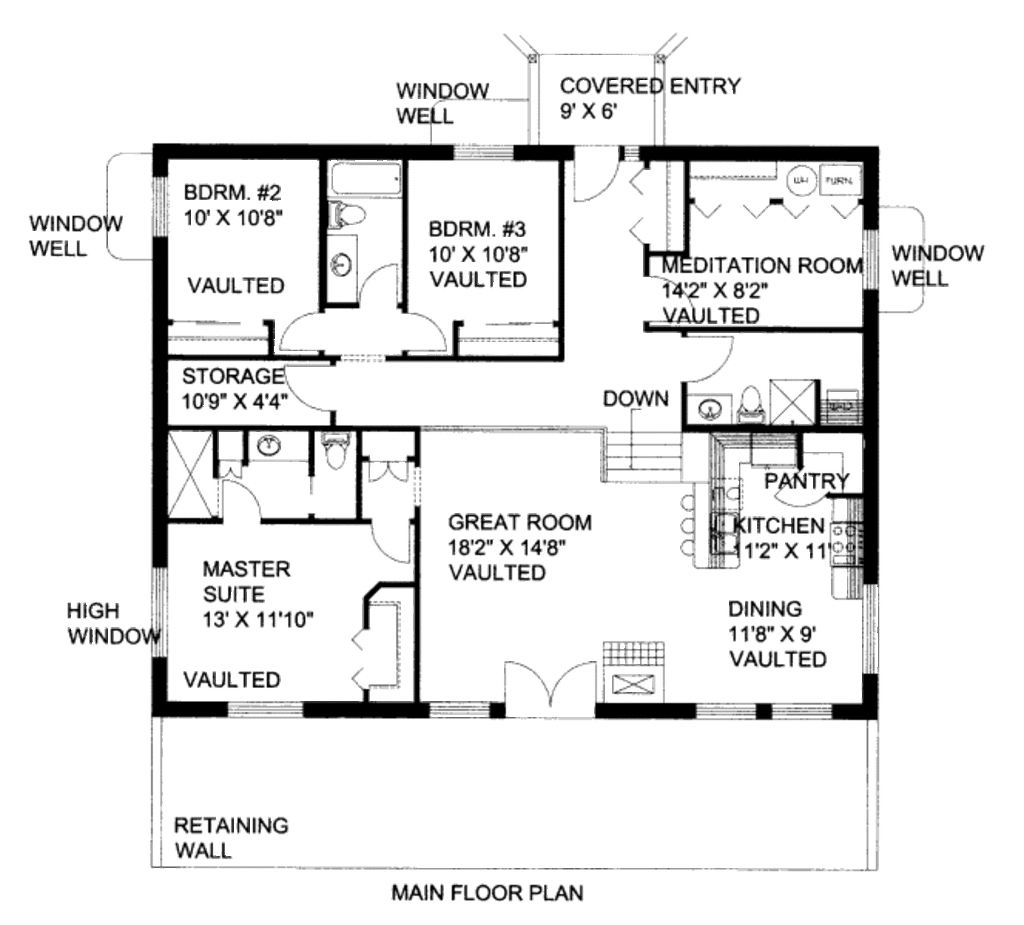door: (493, 653, 606, 721), (644, 276, 707, 333), (774, 460, 834, 514), (214, 471, 274, 523), (570, 137, 622, 194), (280, 364, 334, 416), (684, 327, 736, 381), (272, 308, 329, 354), (359, 261, 410, 310), (364, 517, 424, 558), (403, 303, 447, 353), (362, 451, 417, 484)
large_sink: (317, 193, 366, 236), (316, 421, 354, 473), (737, 380, 766, 433)
small_sink: (322, 237, 364, 303), (247, 428, 310, 456), (684, 391, 732, 421)
stairs: (599, 396, 684, 487)
tub: (320, 157, 412, 198)
twin_sink: (710, 510, 747, 563)
window: (696, 697, 842, 726), (230, 697, 313, 724), (146, 567, 172, 653), (864, 581, 882, 680), (453, 141, 513, 160), (152, 181, 172, 237)
